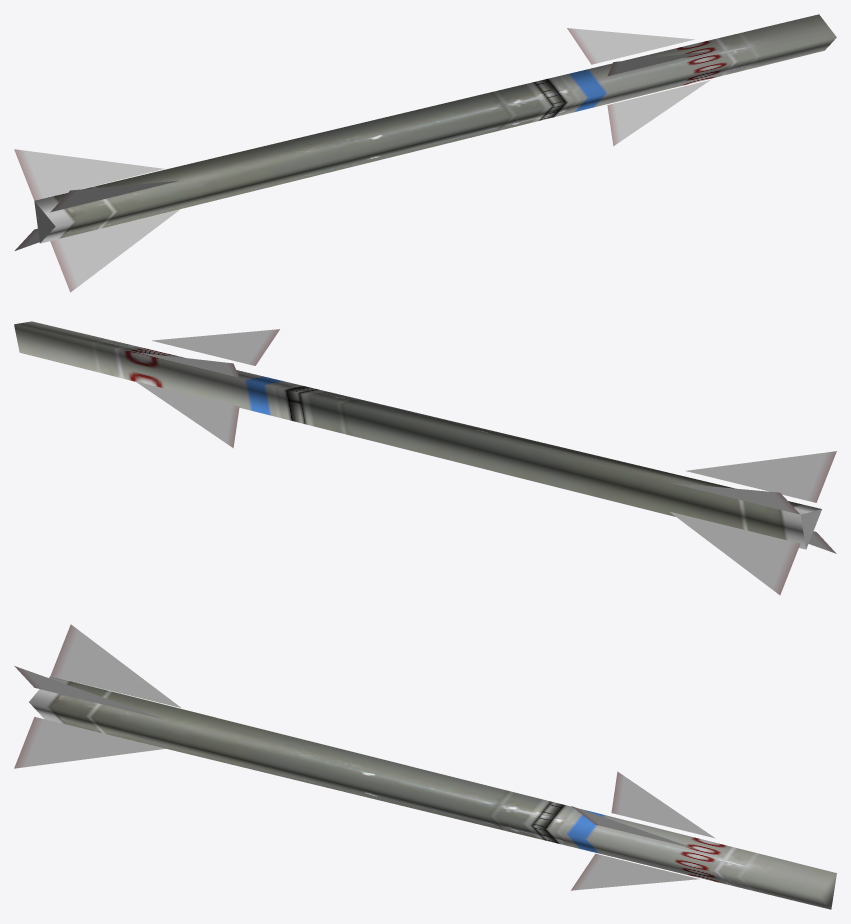
Rendered from projectile_sidewinder_missile_LOD2.obj.
3 renders of one model, top to bottom at view 1: azimuth 30°, elevation 25°; view 2: azimuth 150°, elevation 25°; view 3: azimuth 330°, elevation 25°, orthographic.
Parts seen in each view (by area): view 1: mtl_sidewinder_missile; view 2: mtl_sidewinder_missile; view 3: mtl_sidewinder_missile.
Boxes of the visible parts, x1=… form: mtl_sidewinder_missile: x1=14, y1=14, x2=836, y2=292; mtl_sidewinder_missile: x1=14, y1=321, x2=836, y2=595; mtl_sidewinder_missile: x1=14, y1=624, x2=836, y2=909.
Size of the model in its own units: 285 by 35.55 by 35.55.
